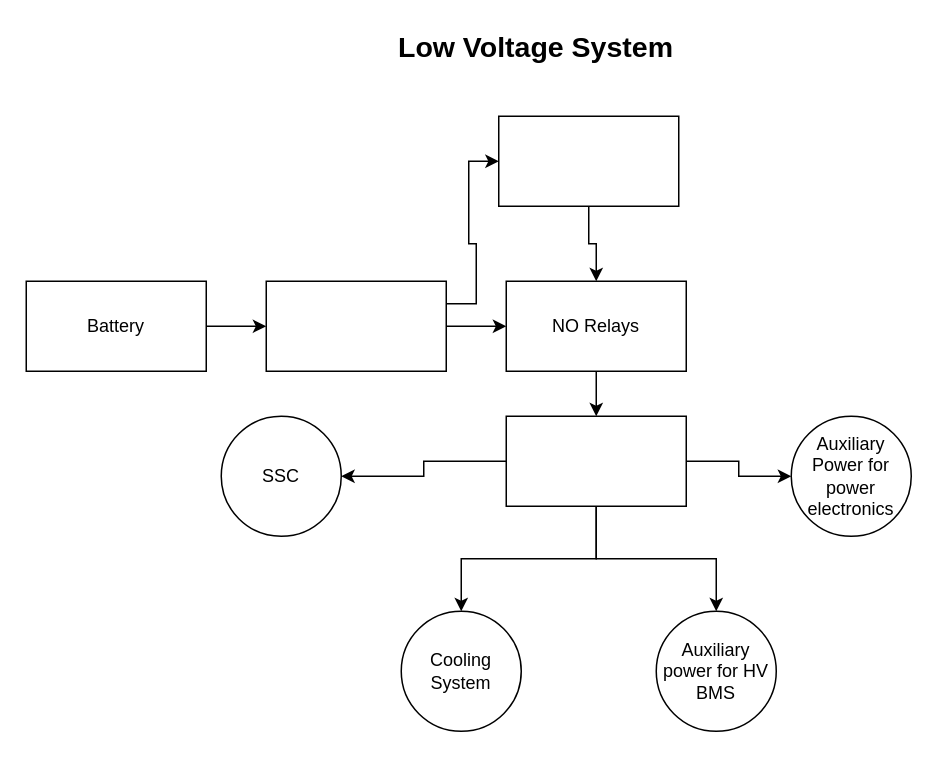
This 938x758 diagram has some shape labels left out. The box of each missing label's shape, as (x1, y1, x2, y2) in pixels:
BMS: (265, 280, 446, 371)
Power Distribution Board: (505, 415, 686, 506)
Switch: (497, 115, 679, 206)
